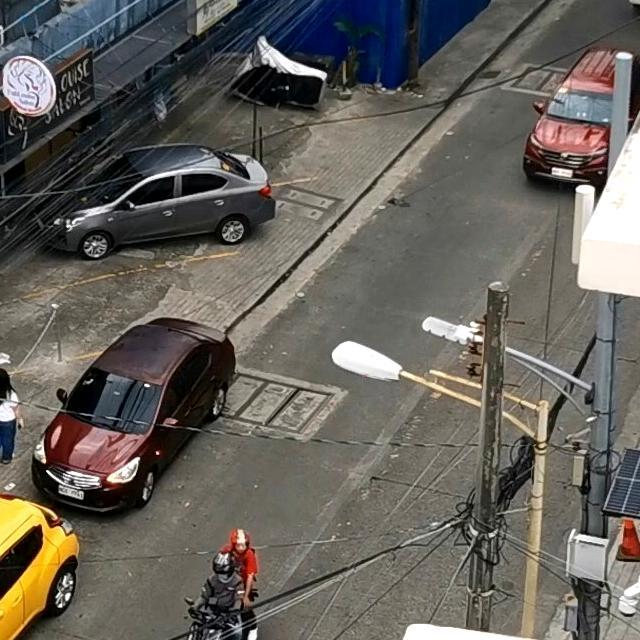Motorcycle: (164, 520, 274, 640)
